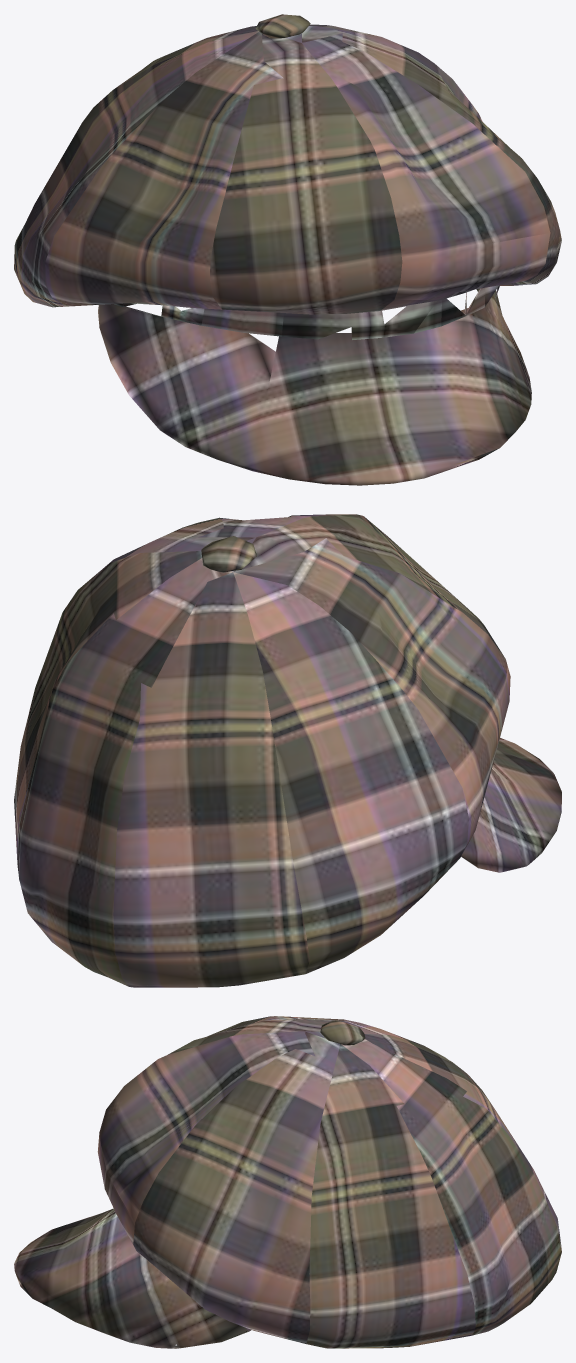
The model's file is Hat 8.FBX.
3 renders of one model, top to bottom at view 1: azimuth 30°, elevation 25°; view 2: azimuth 150°, elevation 25°; view 3: azimuth 270°, elevation 25°, orthographic. The views are drawn at different scales.
Visible parts, largest first — view 1: hat 8; view 2: hat 8; view 3: hat 8.
Boxes of the visible parts, x1,y1,x2,y2 form: hat 8: (14, 14, 561, 485); hat 8: (14, 514, 561, 987); hat 8: (14, 1016, 561, 1348).
Size of the model in its own units: 21.85 by 15.59 by 27.94.
1 material, 1 textured.
